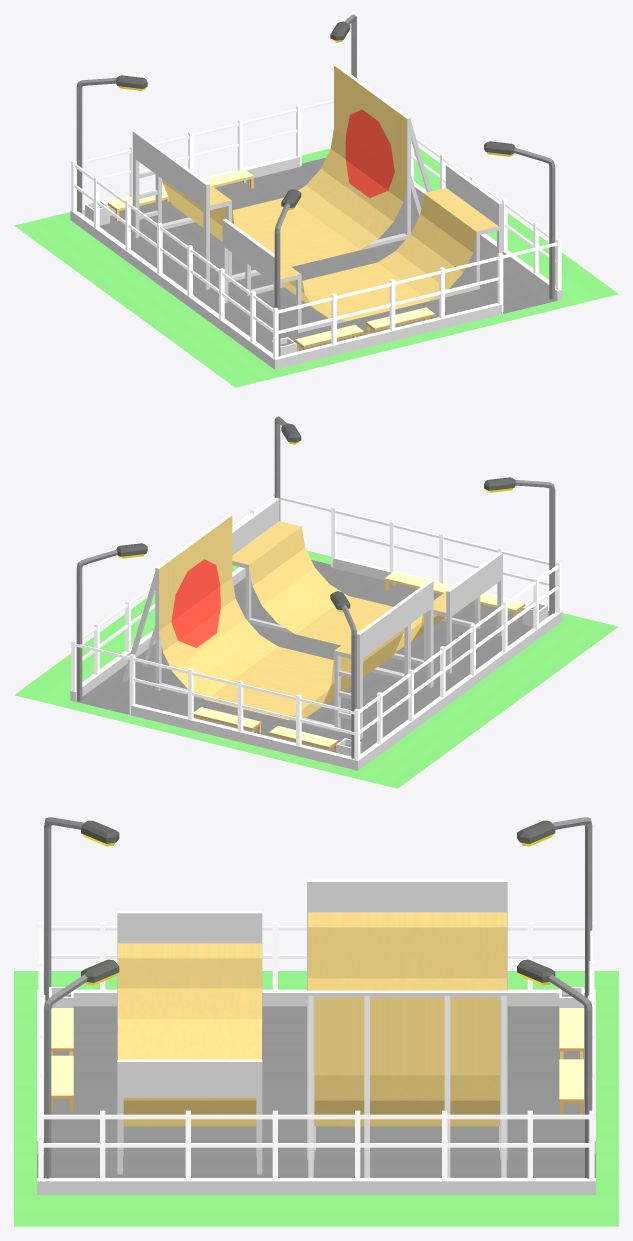
Rendered from landscape_entertainments.008.glb.
The picture shows the model from 3 angles, top to bottom: view 1: azimuth 30°, elevation 25°; view 2: azimuth 150°, elevation 25°; view 3: azimuth 270°, elevation 25°; orthographic projection. The views are drawn at different scales.
Parts seen in each view (by area): view 1: landscape_entertainments.008(Clone); view 2: landscape_entertainments.008(Clone); view 3: landscape_entertainments.008(Clone).
Part boxes in pixels (x1,y1,x2,y2): landscape_entertainments.008(Clone): (14, 14, 618, 387); landscape_entertainments.008(Clone): (14, 416, 618, 788); landscape_entertainments.008(Clone): (14, 817, 618, 1226).
Bounding box in the file's own units: 16 × 6.16 × 16.
1 material, 1 textured.
